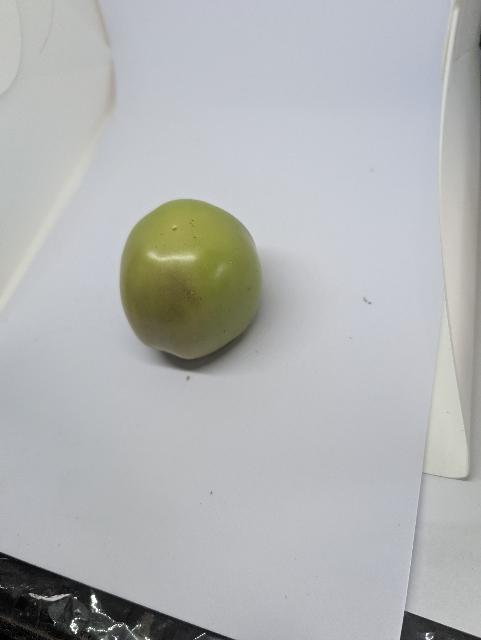green: (104, 193, 285, 369)
